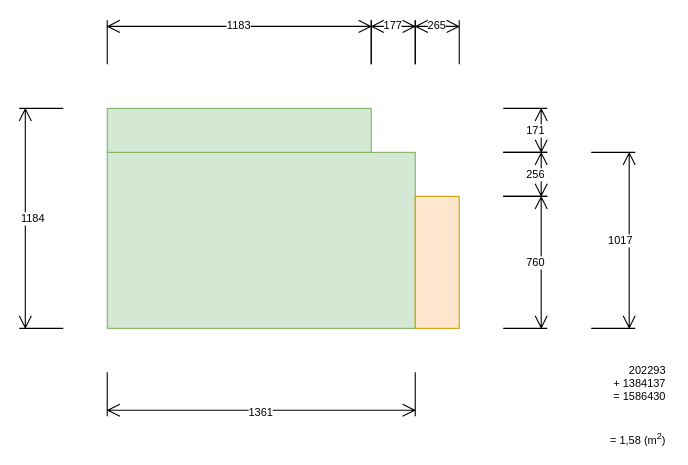
The diagram is 688 pixels wide and 465 high, and some of its shapes have lost their labels. Each missing label, with the centre of its shape:
"1183 x 171 = 202293 (mm 2 )" belongs at (x=238, y=129).
"1361 x 1017 = 1384137 (mm 2 )" belongs at (x=260, y=239).
